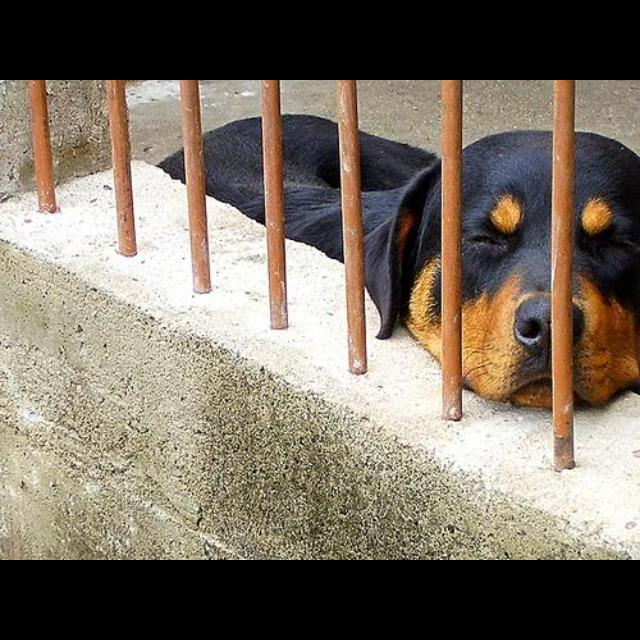rottweiler: (155, 114, 640, 413)
